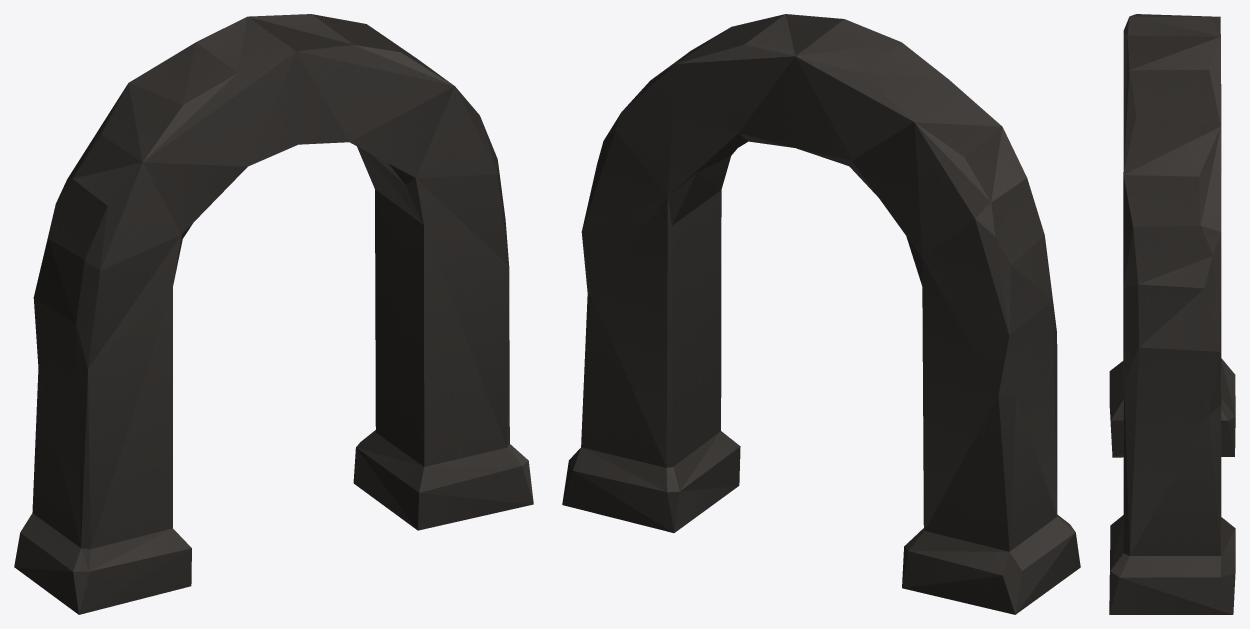
Rendered from Arc_1A.fbx.
3 views of the same model, side by side, from view 1: azimuth 30°, elevation 25°; view 2: azimuth 150°, elevation 25°; view 3: azimuth 270°, elevation 25° (orthographic). The views are drawn at different scales.
Parts seen in each view (by area): view 1: Group65515; view 2: Group65515; view 3: Group65515.
Boxes of the visible parts, x1,y1,x2,y2 form: Group65515: [14, 14, 533, 614]; Group65515: [562, 14, 1080, 614]; Group65515: [1109, 14, 1235, 614].
Size of the model in its own units: 515 by 542 by 131.
1 material, 1 textured.
